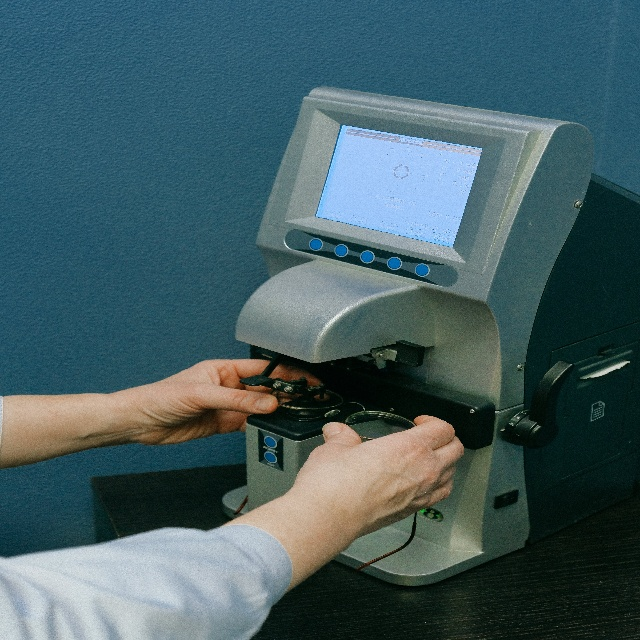Sin_guantes: (296, 412, 465, 547), (128, 357, 327, 446)
